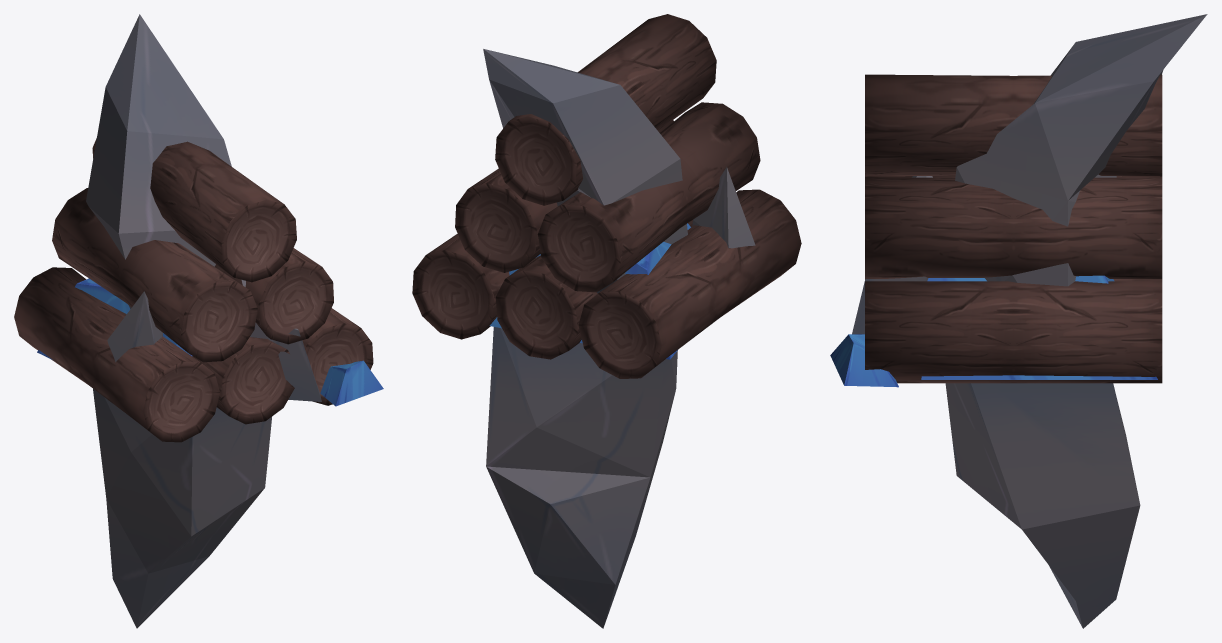
Rendered from AssetsFase1.fbx.
3 views of the same model, side by side, from view 1: azimuth 30°, elevation 25°; view 2: azimuth 150°, elevation 25°; view 3: azimuth 270°, elevation 25° (orthographic). The views are drawn at different scales.
Visible parts, largest first — view 1: Stacked_Logs, YellowCrystal.002, YellowCrystal, Rock2, Rock1; view 2: Stacked_Logs, YellowCrystal.002, YellowCrystal, Rock1; view 3: Stacked_Logs, YellowCrystal.002, YellowCrystal, Rock2, Rock1.
Part boxes in pixels (<box>): Stacked_Logs: <box>14,138,373,442</box>; YellowCrystal.002: <box>93,389,272,628</box>; YellowCrystal: <box>86,14,321,401</box>; Rock2: <box>190,354,383,406</box>; Rock1: <box>37,278,189,360</box>; Stacked_Logs: <box>412,14,801,378</box>; YellowCrystal.002: <box>486,327,677,628</box>; YellowCrystal: <box>483,49,755,293</box>; Rock1: <box>489,223,690,359</box>; Stacked_Logs: <box>865,74,1162,383</box>; YellowCrystal.002: <box>945,383,1140,628</box>; YellowCrystal: <box>852,14,1207,334</box>; Rock2: <box>830,334,898,387</box>; Rock1: <box>921,275,1157,379</box>.
Size of the model in its own units: 73.53 by 168 by 89.04.
